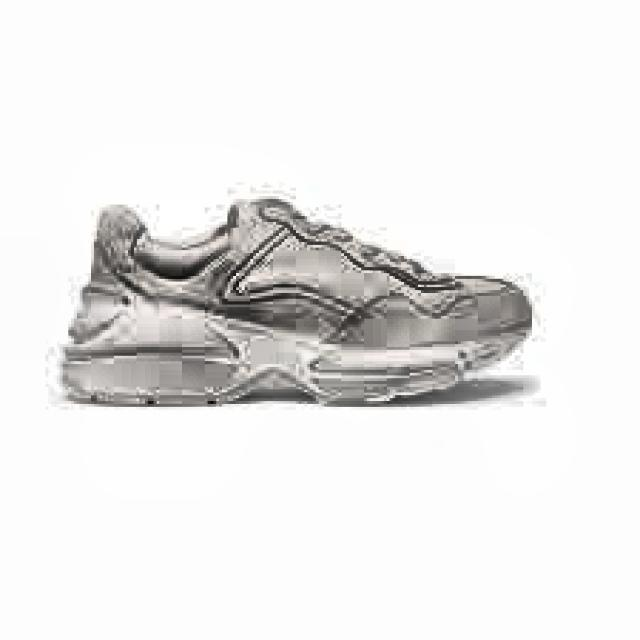shoes: (47, 195, 524, 411)
